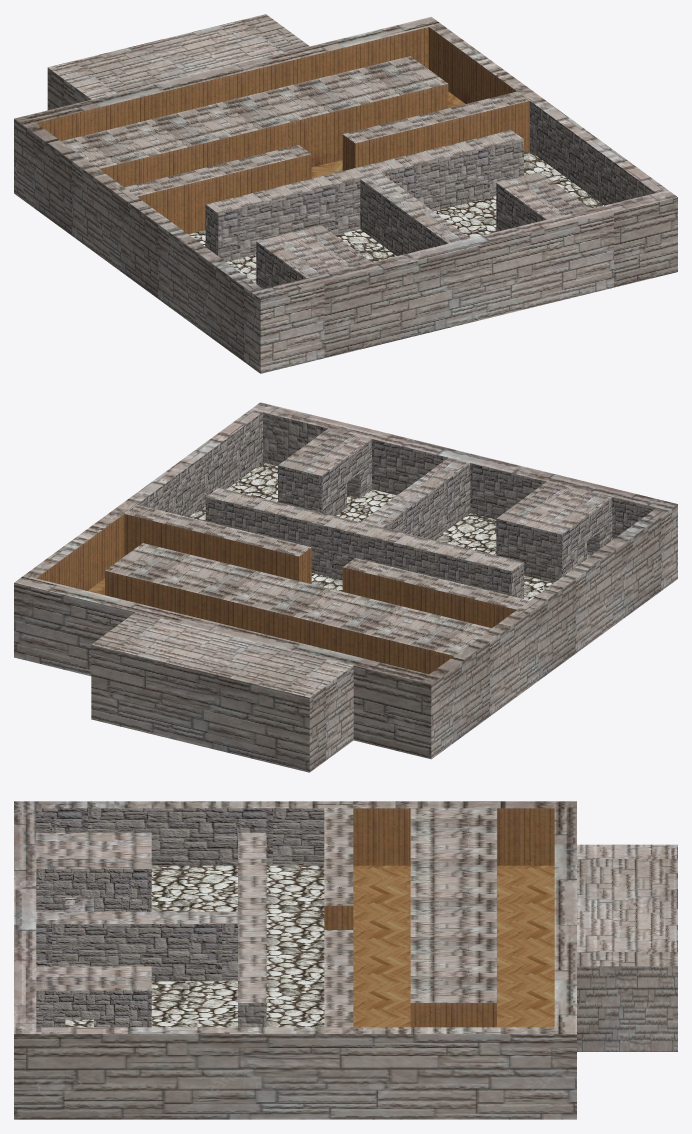
The model's file is Level1.fbx.
The picture shows the model from 3 angles, top to bottom: view 1: azimuth 30°, elevation 25°; view 2: azimuth 150°, elevation 25°; view 3: azimuth 270°, elevation 25°; orthographic projection. The views are drawn at different scales.
Parts seen in each view (by area): view 1: pPlane1; view 2: pPlane1; view 3: pPlane1.
Boxes of the visible parts, x1,y1,x2,y2 form: pPlane1: (14, 14, 677, 373); pPlane1: (14, 402, 677, 772); pPlane1: (14, 801, 677, 1119).
Size of the model in its own units: 1912 by 327 by 2306.
Materials: 33 (32 with a texture image).
